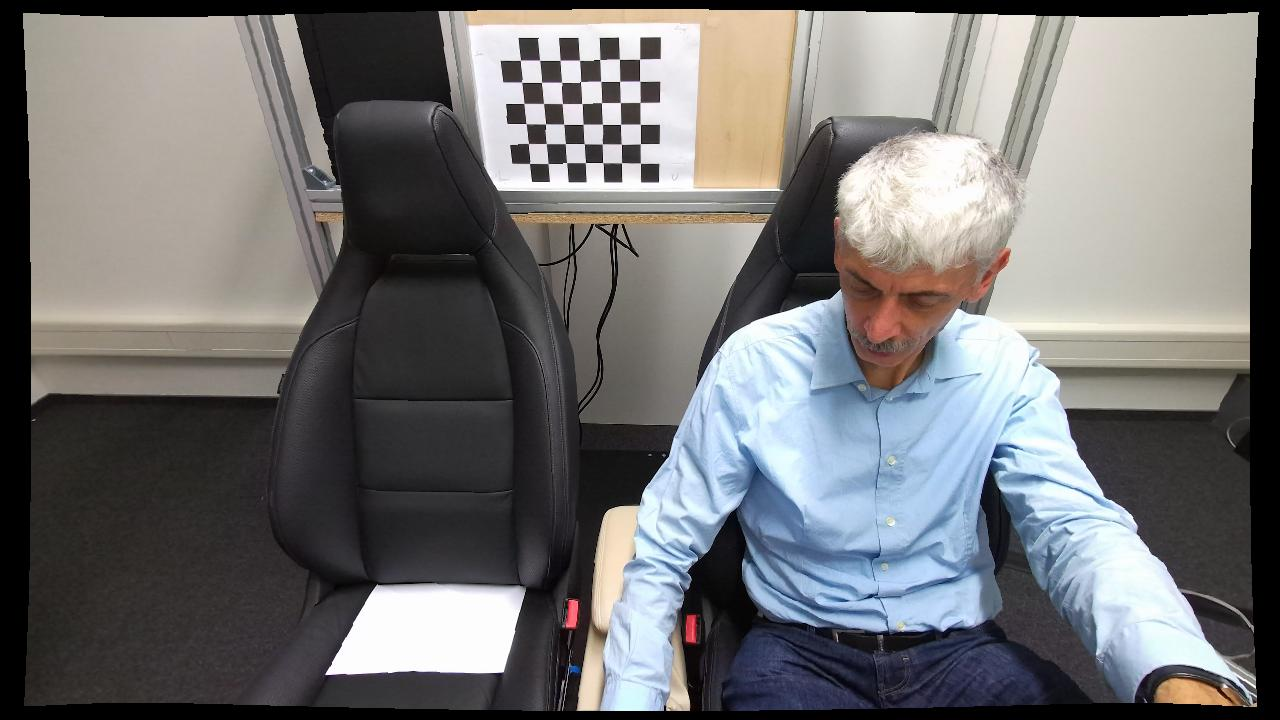Distracted: (599, 126, 1155, 707)
